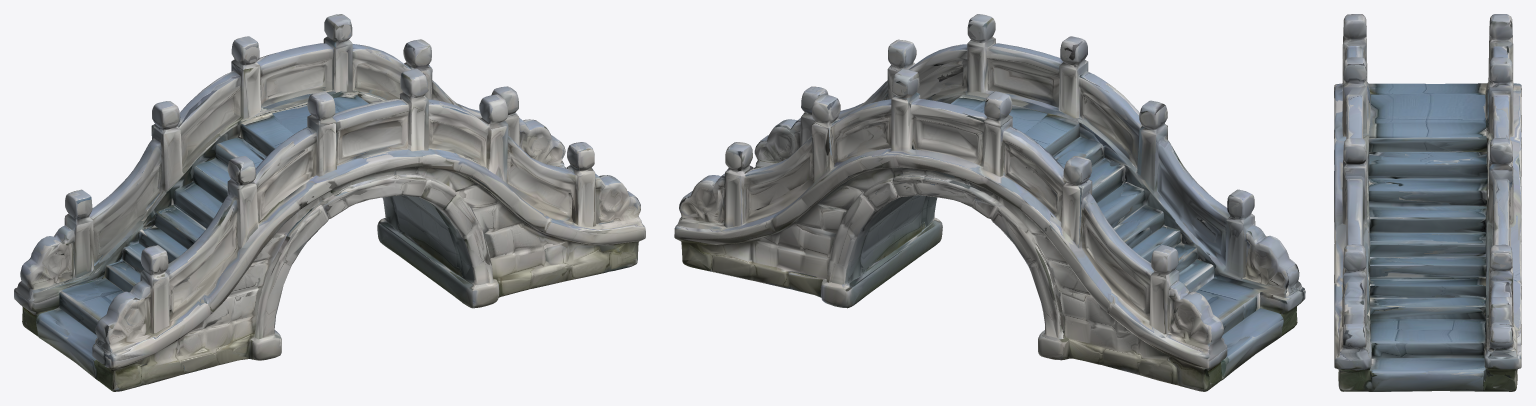
File: stoneBridge-compressed.glb
The picture shows the model from 3 angles, left to right: view 1: azimuth 30°, elevation 25°; view 2: azimuth 150°, elevation 25°; view 3: azimuth 270°, elevation 25°; orthographic projection. The views are drawn at different scales.
Visible parts, largest first — view 1: node_0; view 2: node_0; view 3: node_0.
Part boxes in pixels (<box>): node_0: <box>14,14,645,391</box>; node_0: <box>674,14,1305,391</box>; node_0: <box>1334,14,1521,391</box>.
Size of the model in its own units: 2.1 by 0.8999 by 0.6569.
1 material, 1 textured.
